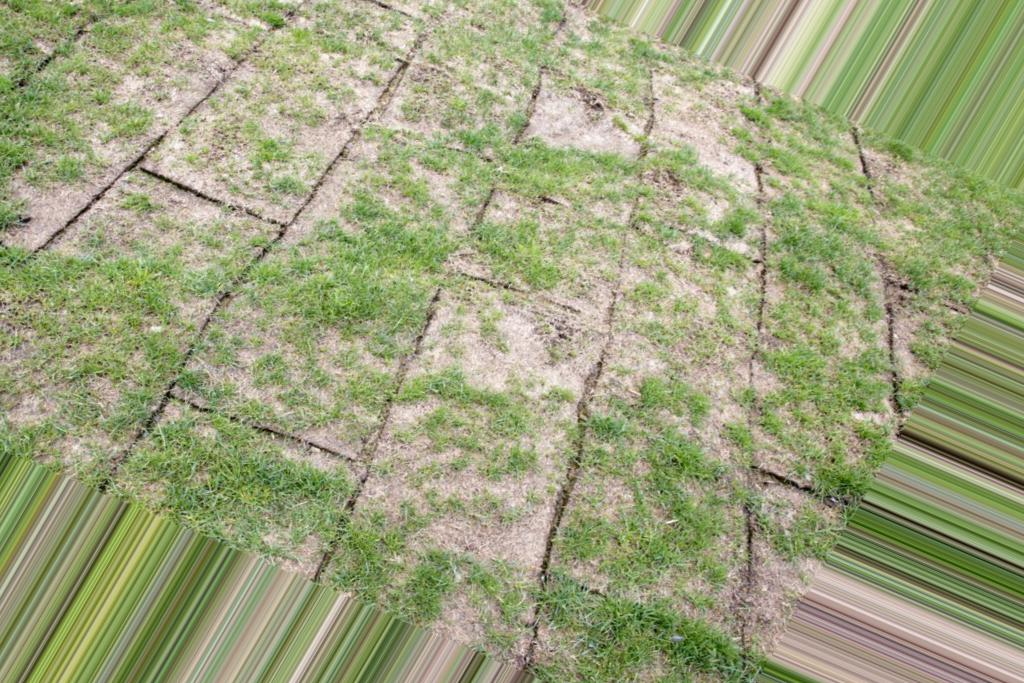patch: (428, 475, 598, 565), (467, 297, 560, 387), (38, 182, 129, 255), (674, 99, 746, 183), (553, 94, 628, 149)
